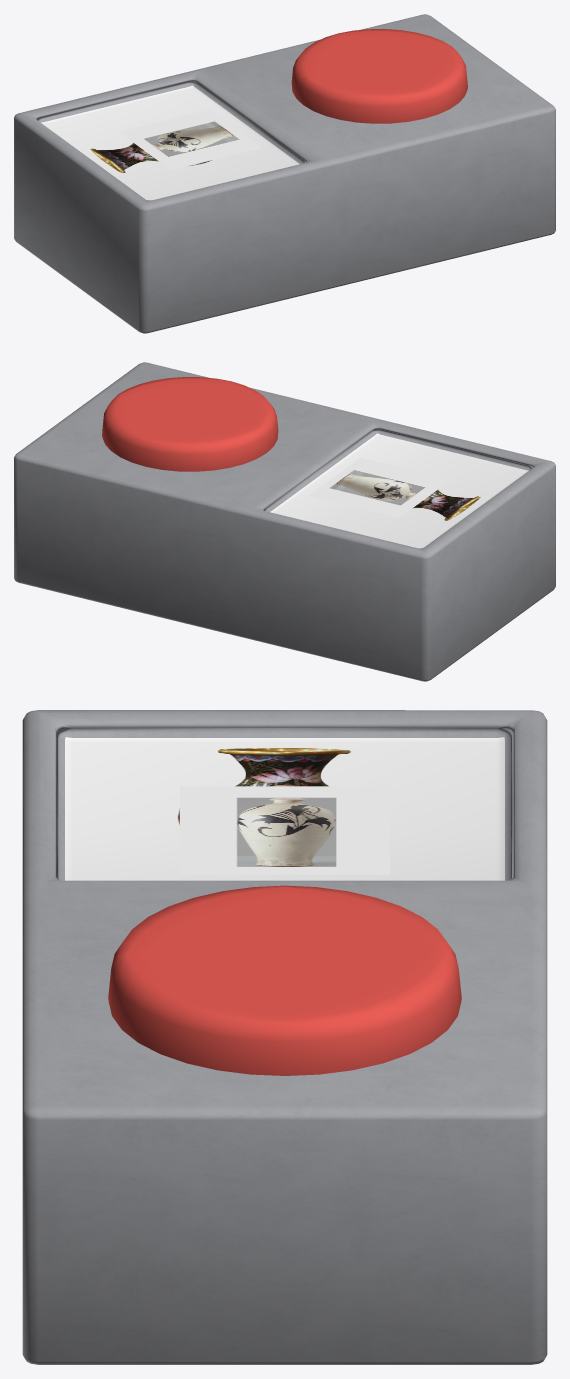
File: Button_Enamelled.glb
The picture shows the model from 3 angles, top to bottom: view 1: azimuth 30°, elevation 25°; view 2: azimuth 150°, elevation 25°; view 3: azimuth 270°, elevation 25°; orthographic projection. The views are drawn at different scales.
Parts seen in each view (by area): view 1: Cube, Circle, Plane; view 2: Cube, Circle, Plane; view 3: Cube, Circle, Plane.
Boxes of the visible parts, box(x1,y1,x2,y2) form: Cube: box(14, 14, 555, 333); Circle: box(291, 29, 467, 123); Plane: box(119, 109, 261, 169); Cube: box(14, 362, 555, 681); Circle: box(102, 377, 278, 471); Plane: box(308, 457, 450, 517); Cube: box(22, 710, 547, 1364); Circle: box(108, 885, 461, 1075); Plane: box(180, 786, 389, 874).
Bounding box in the file's own units: 3.67 × 1.28 × 2.
Materials: 4 (3 with a texture image).
